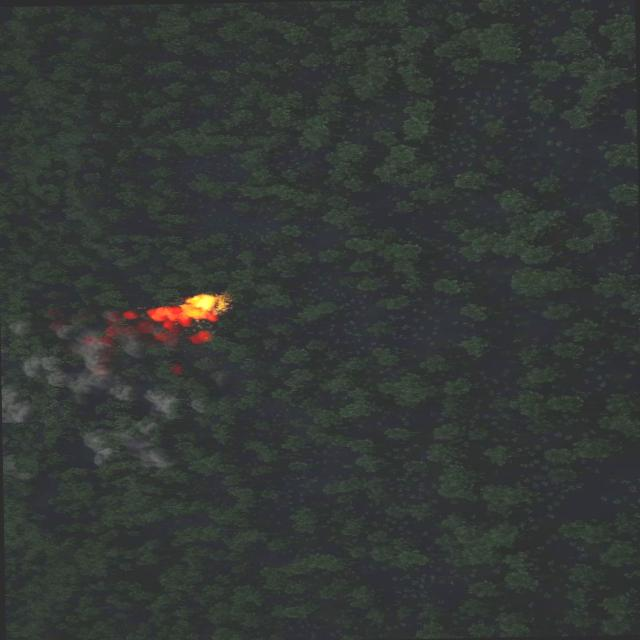fire: (150, 292, 222, 331)
smoke: (0, 300, 218, 429), (84, 425, 176, 467), (188, 329, 212, 341), (169, 362, 185, 372)
